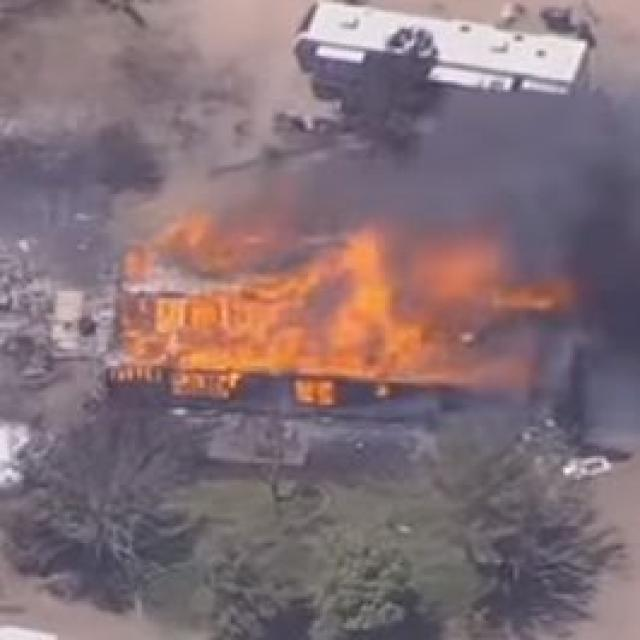Fire: (118, 215, 507, 402)
Smoke: (346, 124, 640, 258)
